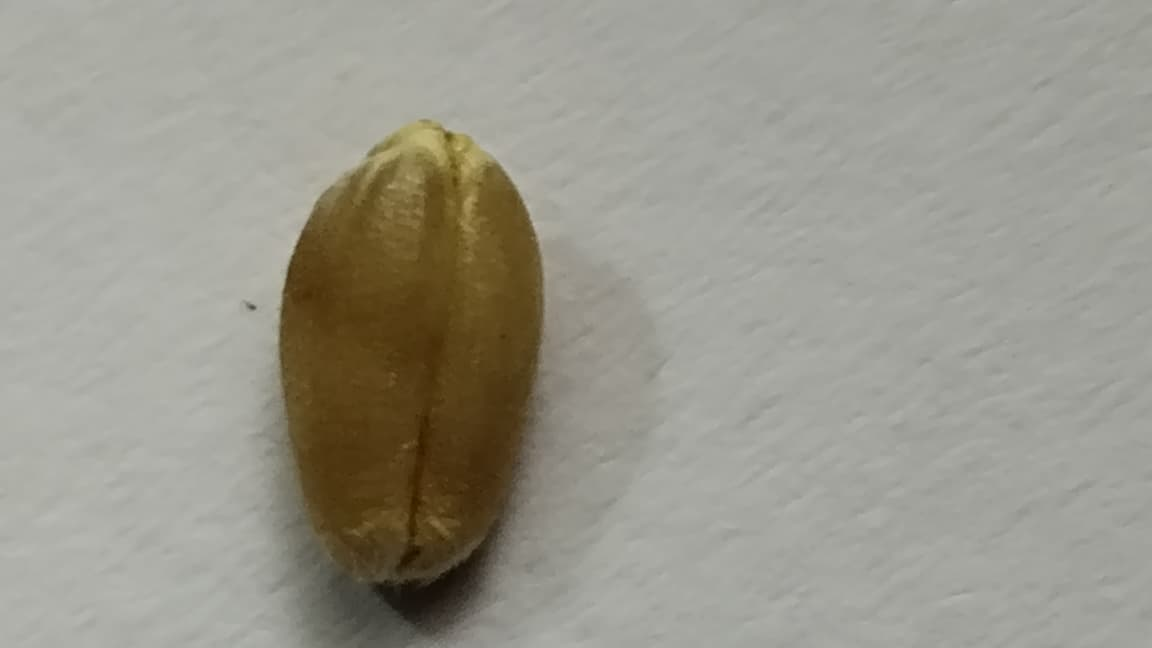healthy: (280, 121, 543, 585)
